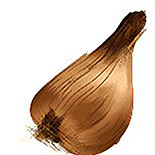onion: (24, 9, 150, 154)
